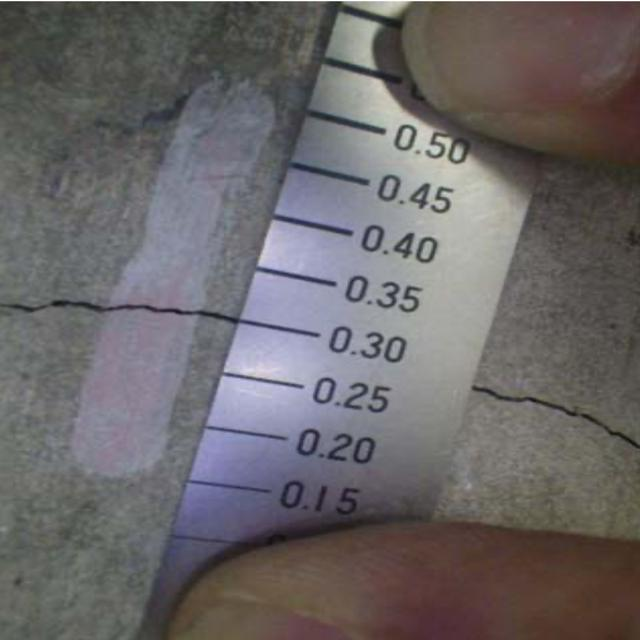crack: (465, 368, 640, 455), (10, 284, 237, 337)
